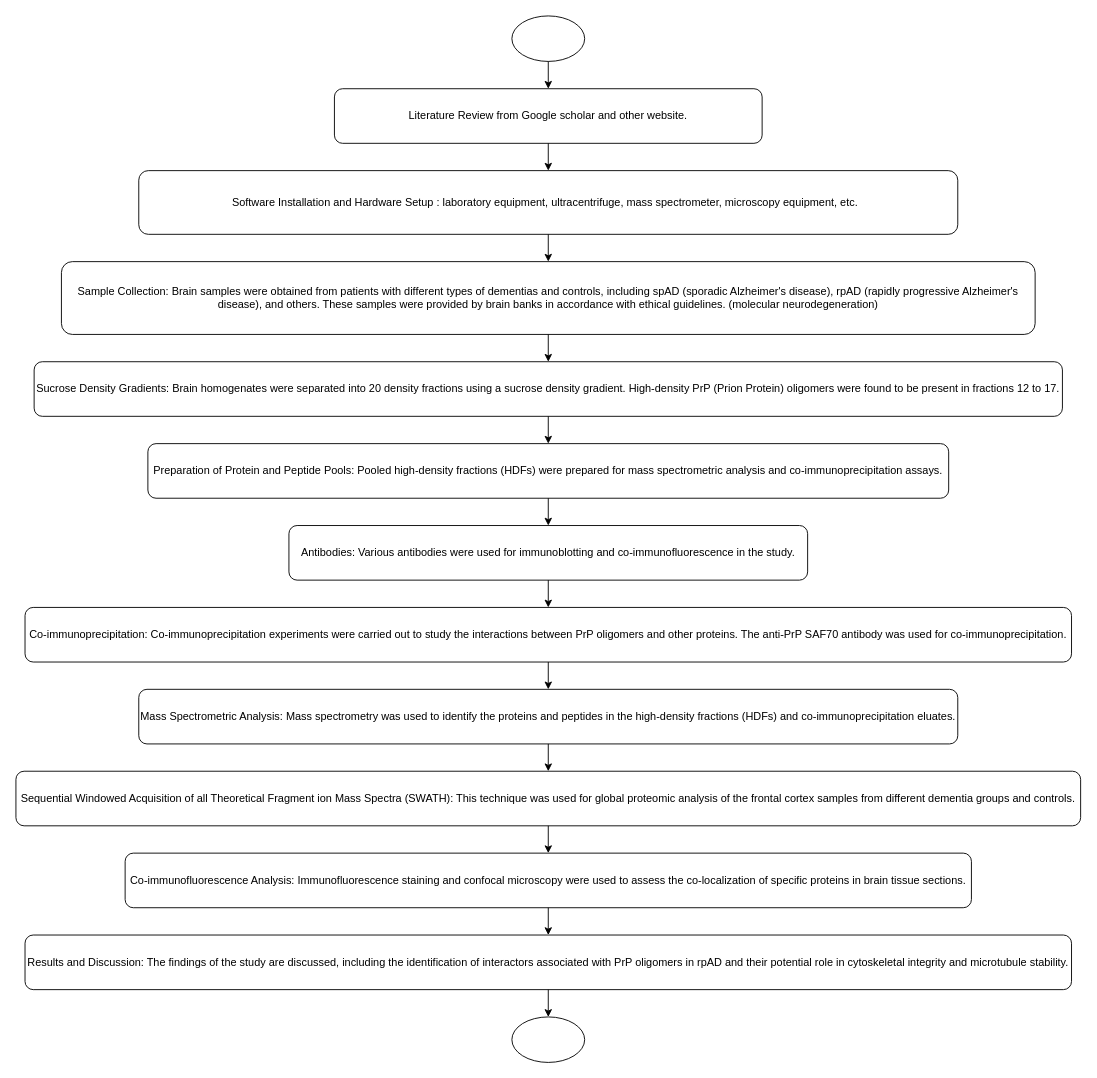
The diagram is 1097 pixels wide and 1078 high, and some of its shapes have lost their labels. Each missing label, with the centre of its shape:
"end" belongs at (548,1039).
"start" belongs at (548,38).
